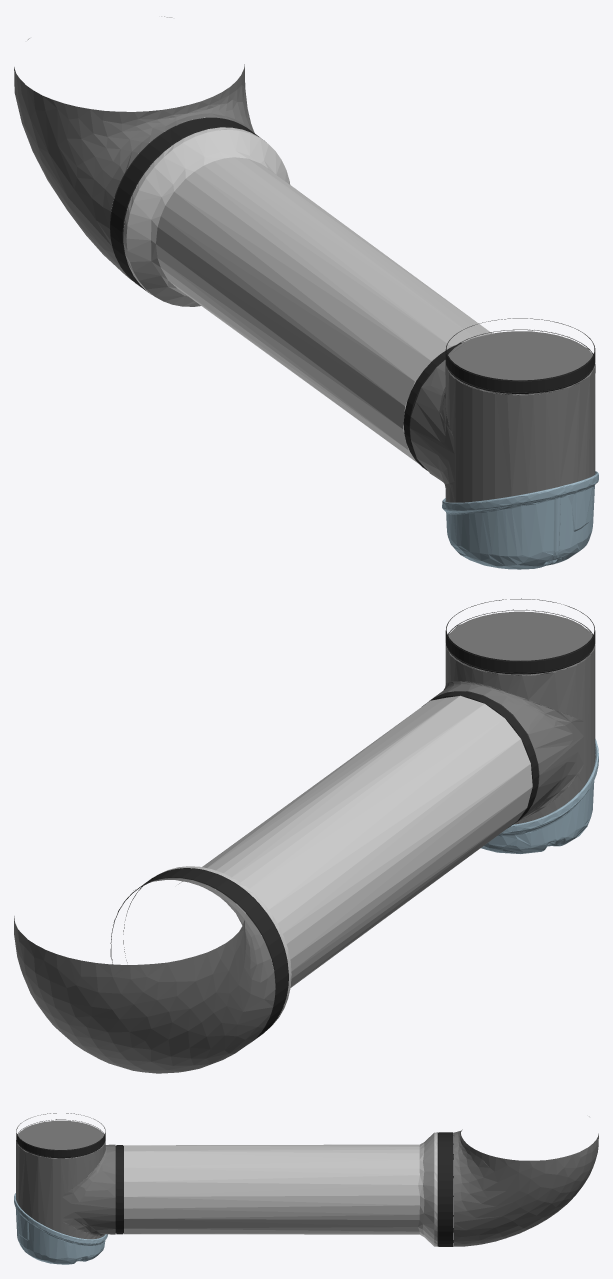
File: forearm.glb
3 views of the same model, one above another, from view 1: azimuth 30°, elevation 25°; view 2: azimuth 150°, elevation 25°; view 3: azimuth 270°, elevation 25° (orthographic). The views are drawn at different scales.
Parts seen in each view (by area): view 1: forearm_3, forearm_0, forearm_1, forearm_5, forearm_2, forearm_6, forearm_4; view 2: forearm_3, forearm_1, forearm_0, forearm_5, forearm_2, forearm_6, forearm_4; view 3: forearm_3, forearm_1, forearm_0, forearm_5, forearm_2, forearm_6, forearm_4.
Boxes of the visible parts, bbox=[...] form: forearm_3: bbox=[123, 127, 491, 464]; forearm_0: bbox=[410, 331, 595, 502]; forearm_1: bbox=[14, 16, 254, 281]; forearm_5: bbox=[442, 471, 598, 569]; forearm_2: bbox=[110, 117, 264, 294]; forearm_6: bbox=[445, 318, 595, 393]; forearm_4: bbox=[403, 342, 463, 470]; forearm_3: bbox=[155, 695, 532, 1028]; forearm_1: bbox=[14, 878, 275, 1073]; forearm_0: bbox=[429, 611, 595, 824]; forearm_5: bbox=[481, 739, 598, 853]; forearm_2: bbox=[110, 868, 288, 1042]; forearm_6: bbox=[445, 598, 595, 674]; forearm_4: bbox=[422, 691, 538, 827]; forearm_3: bbox=[124, 1132, 437, 1246]; forearm_1: bbox=[453, 1116, 598, 1246]; forearm_0: bbox=[16, 1120, 115, 1239]; forearm_5: bbox=[14, 1193, 107, 1264]; forearm_2: bbox=[437, 1132, 453, 1246]; forearm_6: bbox=[16, 1113, 105, 1158]; forearm_4: bbox=[115, 1145, 123, 1234].
Size of the model in its own units: 0.1158 by 0.1101 by 0.4894.
